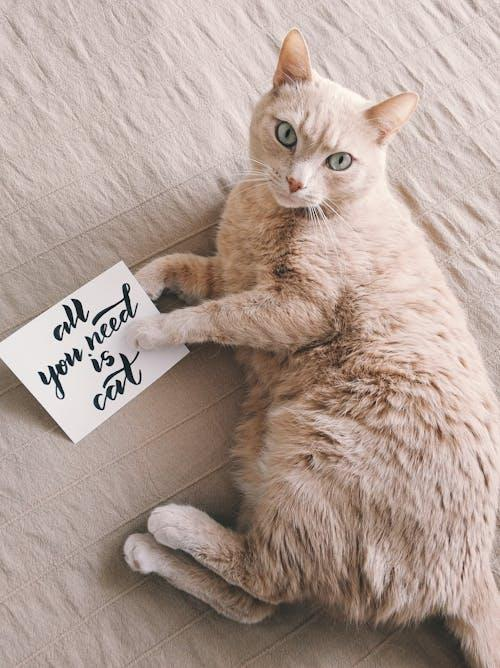kedo: (123, 28, 500, 667)
